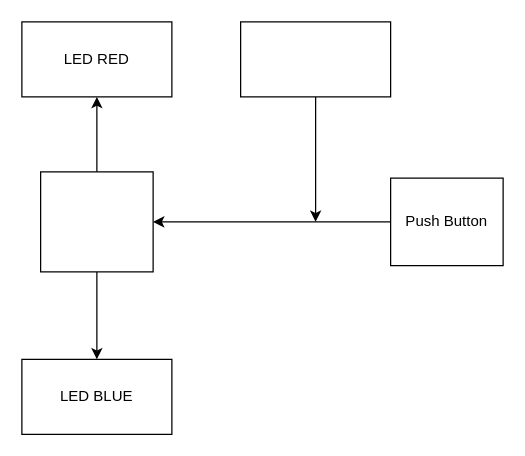
Some shapes in this 525 by 456 pixel diagram are drawn without their labels. The shapes that lost their labels are listed below. From the top down, each one's box as (x1, y1, x2, y2) in pixels, then its label:
(239, 21, 391, 97): Pull Up/Pull Down Selection
(39, 171, 153, 272): QT Py Board
